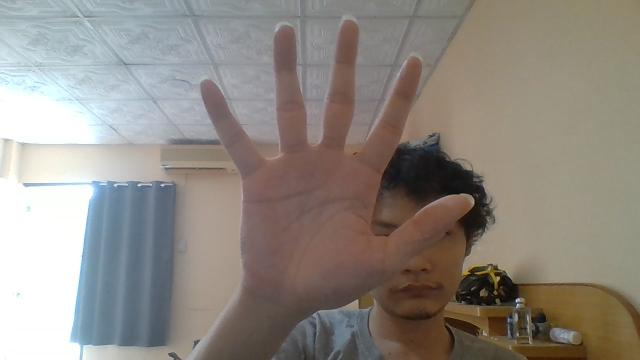Stop: (198, 15, 474, 314)
